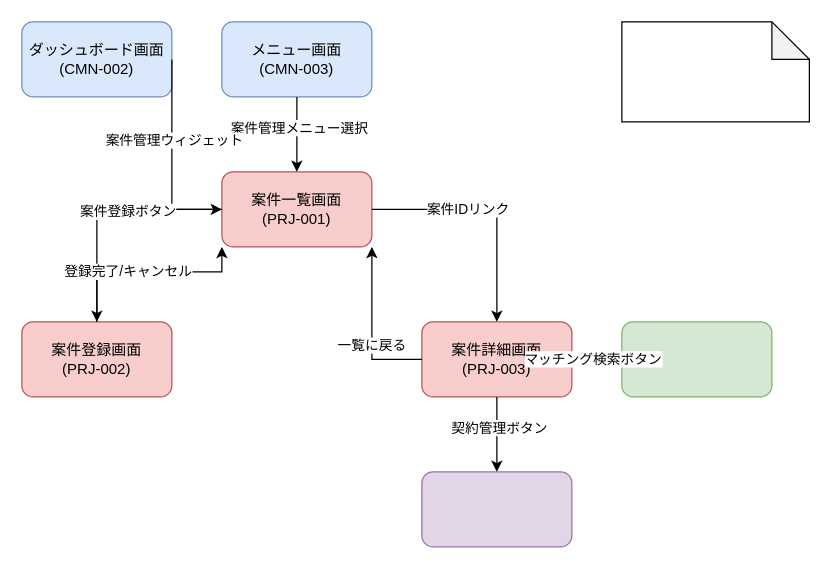
Some shapes in this 831 by 569 pixel diagram are drawn without their labels. The centre of each missing label's shape, as x and y in pixels:
"マッチング検索画面 (MTH-001)" goes at pixel 696 359.
"凡例： 青色 - 共通画面 赤色 - 案件管理画面 緑色 - マッチング機能画面 紫色 - 契約管理画面" goes at pixel 715 71.
"契約一覧画面 (CNT-001)" goes at pixel 496 509.
